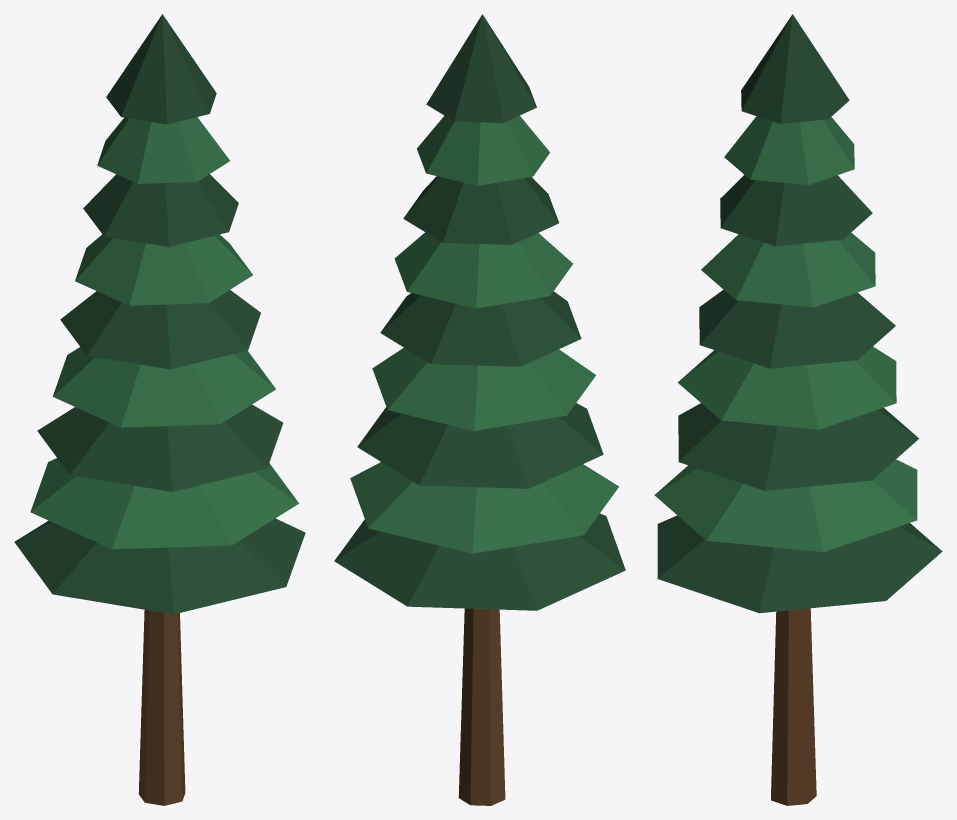
File: arbre_foret_2.glb
The picture shows the model from 3 angles, left to right: view 1: azimuth 30°, elevation 25°; view 2: azimuth 150°, elevation 25°; view 3: azimuth 270°, elevation 25°; orthographic projection.
Parts seen in each view (by area): view 1: epicea_etage_0.002, epicea_etage_1.002, epicea_etage_2.002, epicea_etage_3.002, epicea_etage_4.002, epicea_etage_5.002, epicea_etage_6.002, epicea_tronc.002, epicea_etage_8.001, epicea_etage_7.001; view 2: epicea_etage_0.002, epicea_etage_1.002, epicea_etage_2.002, epicea_etage_3.002, epicea_etage_4.002, epicea_etage_5.002, epicea_tronc.002, epicea_etage_6.002, epicea_etage_7.001, epicea_etage_8.001; view 3: epicea_etage_0.002, epicea_etage_1.002, epicea_etage_2.002, epicea_etage_3.002, epicea_etage_4.002, epicea_etage_5.002, epicea_etage_6.002, epicea_tronc.002, epicea_etage_8.001, epicea_etage_7.001.
Boxes of the visible parts, x1=… form: epicea_etage_0.002: x1=14, y1=518, x2=305, y2=614; epicea_etage_1.002: x1=30, y1=458, x2=298, y2=549; epicea_etage_2.002: x1=37, y1=404, x2=283, y2=491; epicea_etage_3.002: x1=52, y1=347, x2=275, y2=427; epicea_etage_4.002: x1=60, y1=290, x2=260, y2=369; epicea_etage_5.002: x1=75, y1=234, x2=252, y2=305; epicea_etage_6.002: x1=83, y1=174, x2=238, y2=246; epicea_tronc.002: x1=138, y1=610, x2=185, y2=805; epicea_etage_8.001: x1=106, y1=14, x2=216, y2=124; epicea_etage_7.001: x1=97, y1=117, x2=229, y2=183; epicea_etage_0.002: x1=334, y1=513, x2=625, y2=610; epicea_etage_1.002: x1=350, y1=462, x2=618, y2=553; epicea_etage_2.002: x1=357, y1=403, x2=603, y2=488; epicea_etage_3.002: x1=372, y1=348, x2=595, y2=430; epicea_etage_4.002: x1=380, y1=291, x2=581, y2=366; epicea_etage_5.002: x1=394, y1=232, x2=572, y2=308; epicea_tronc.002: x1=458, y1=608, x2=505, y2=805; epicea_etage_6.002: x1=403, y1=176, x2=558, y2=244; epicea_etage_7.001: x1=417, y1=115, x2=549, y2=185; epicea_etage_8.001: x1=426, y1=14, x2=536, y2=122; epicea_etage_0.002: x1=657, y1=515, x2=942, y2=613; epicea_etage_1.002: x1=654, y1=459, x2=917, y2=551; epicea_etage_2.002: x1=678, y1=403, x2=919, y2=490; epicea_etage_3.002: x1=678, y1=346, x2=896, y2=429; epicea_etage_4.002: x1=699, y1=289, x2=895, y2=368; epicea_etage_5.002: x1=701, y1=232, x2=875, y2=307; epicea_etage_6.002: x1=720, y1=175, x2=872, y2=246; epicea_tronc.002: x1=771, y1=608, x2=816, y2=805; epicea_etage_8.001: x1=741, y1=14, x2=849, y2=123; epicea_etage_7.001: x1=724, y1=116, x2=854, y2=184.
Bounding box in the file's own units: 1.95 × 5.75 × 1.92.
